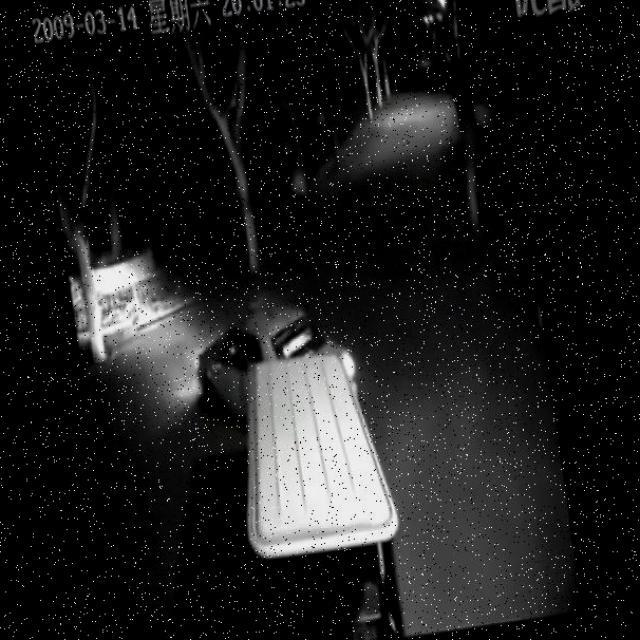accident: (178, 263, 423, 640)
